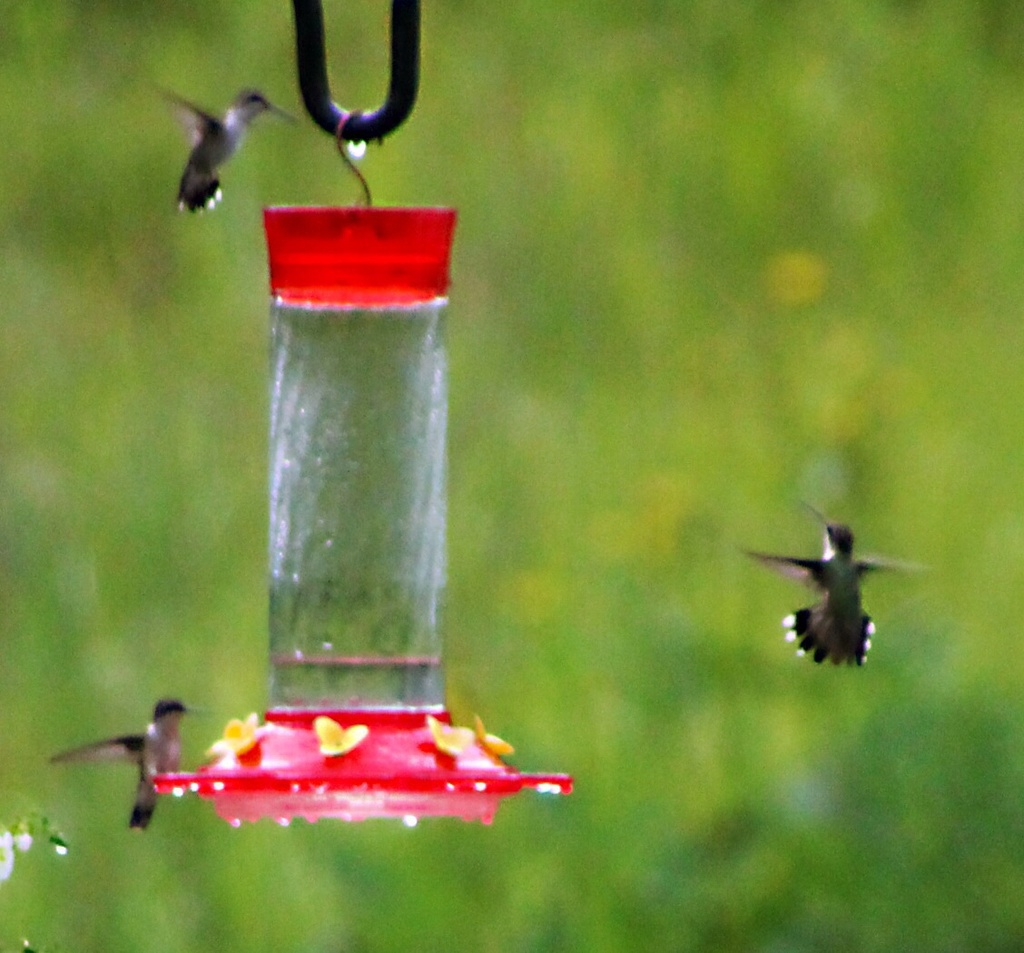Bird: (137, 73, 301, 214), (46, 696, 214, 832)
